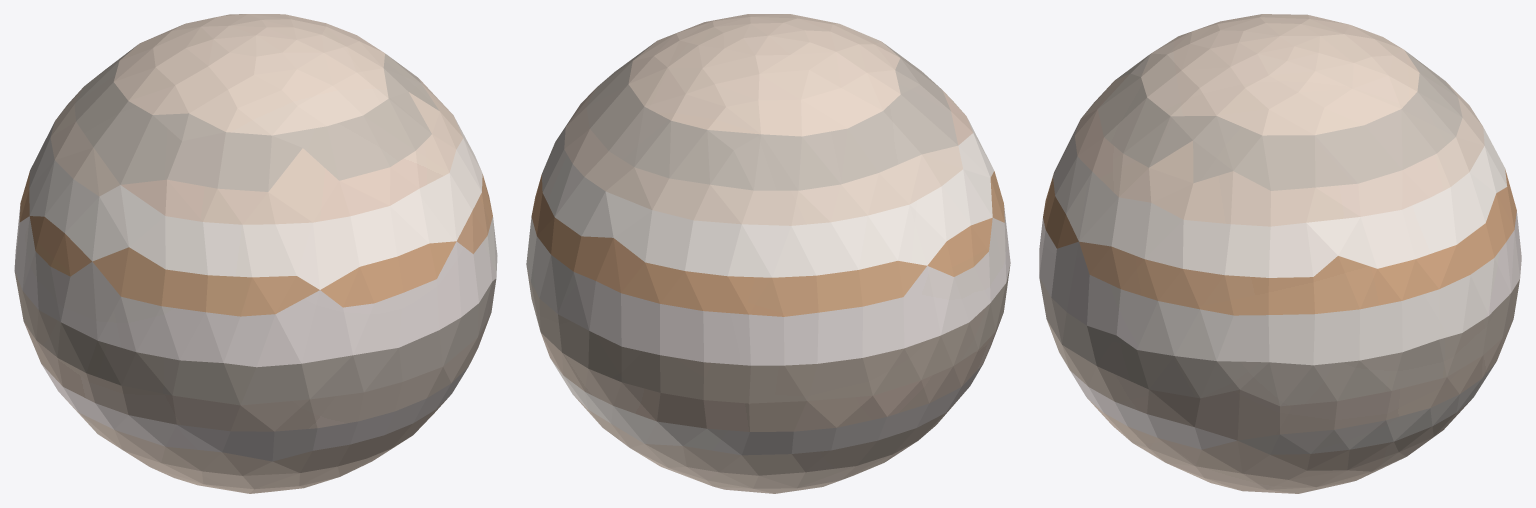
The model's file is Jupiter.glb.
3 views of the same model, side by side, from view 1: azimuth 30°, elevation 25°; view 2: azimuth 150°, elevation 25°; view 3: azimuth 270°, elevation 25° (orthographic).
Parts seen in each view (by area): view 1: Jupiter_Sphere; view 2: Jupiter_Sphere; view 3: Jupiter_Sphere.
Boxes of the visible parts, bbox=[...] form: Jupiter_Sphere: bbox=[14, 14, 497, 493]; Jupiter_Sphere: bbox=[526, 14, 1010, 493]; Jupiter_Sphere: bbox=[1039, 14, 1521, 493].
Bounding box in the file's own units: 17 × 16.97 × 16.98.
Materials: 1 (1 with a texture image).
